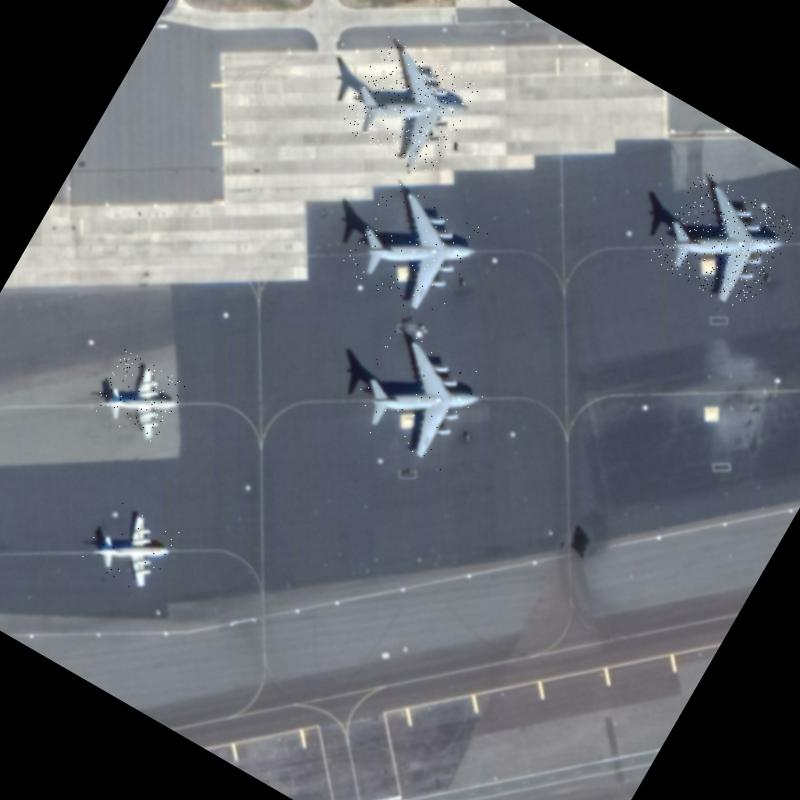A3: (338, 176, 489, 325), (342, 325, 493, 474), (648, 168, 798, 316), (336, 34, 481, 178)
A9: (80, 496, 181, 596), (89, 348, 188, 446)
